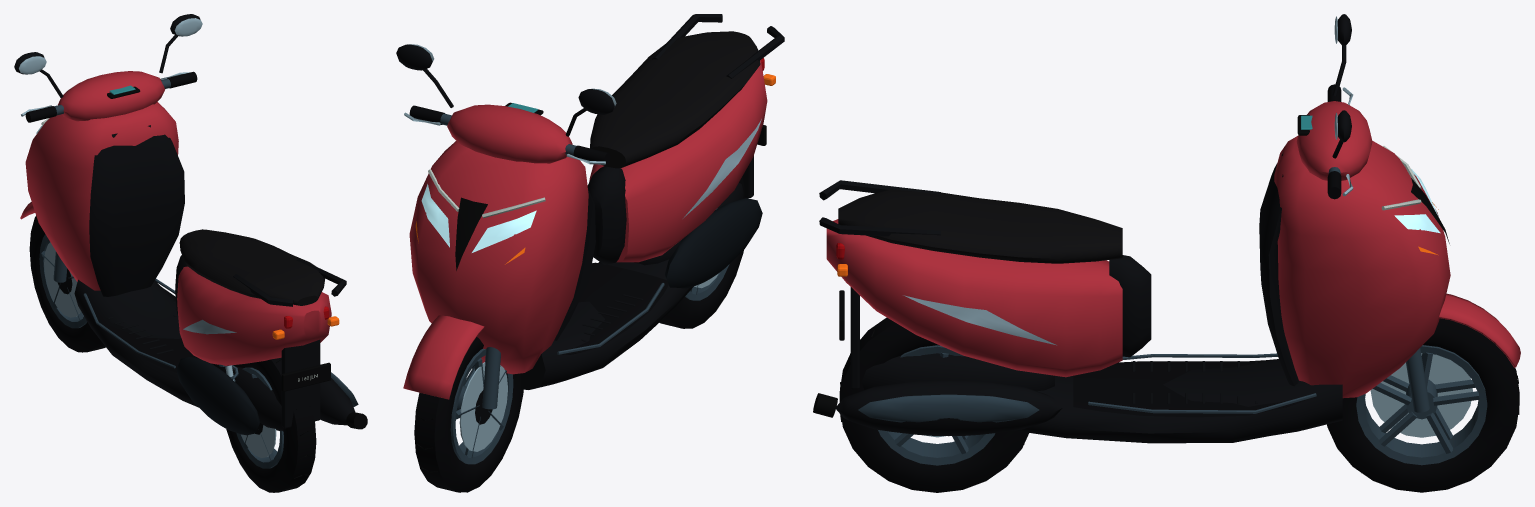
File: sport_scooter_crimson.glb
3 views of the same model, side by side, from view 1: azimuth 30°, elevation 25°; view 2: azimuth 150°, elevation 25°; view 3: azimuth 270°, elevation 25° (orthographic). The views are drawn at different scales.
Parts seen in each view (by area): view 1: Body_Mesh, Steering_Pivot_Mesh, Wheel_Rear_Mesh, Wheel_Front_Mesh; view 2: Body_Mesh, Steering_Pivot_Mesh, Wheel_Front_Mesh, Wheel_Rear_Mesh, Headlights_Mesh; view 3: Body_Mesh, Wheel_Front_Mesh, Wheel_Rear_Mesh, Steering_Pivot_Mesh, Headlights_Mesh.
Part boxes in pixels (x1,y1,x2,y2): Body_Mesh: (25, 102, 367, 435); Steering_Pivot_Mesh: (14, 14, 202, 282); Wheel_Rear_Mesh: (226, 357, 316, 492); Wheel_Front_Mesh: (29, 215, 105, 352); Body_Mesh: (409, 14, 784, 389); Steering_Pivot_Mesh: (396, 44, 616, 409); Wheel_Front_Mesh: (414, 337, 523, 492); Wheel_Rear_Mesh: (659, 176, 748, 328); Headlights_Mesh: (421, 169, 545, 252); Body_Mesh: (813, 136, 1450, 443); Wheel_Front_Mesh: (1327, 318, 1519, 492); Wheel_Rear_Mesh: (839, 317, 1028, 492); Steering_Pivot_Mesh: (1296, 14, 1520, 412); Headlights_Mesh: (1381, 146, 1440, 233).
Bounding box in the file's own units: 0.72 × 1.23 × 1.87.
2 materials, 1 textured.
